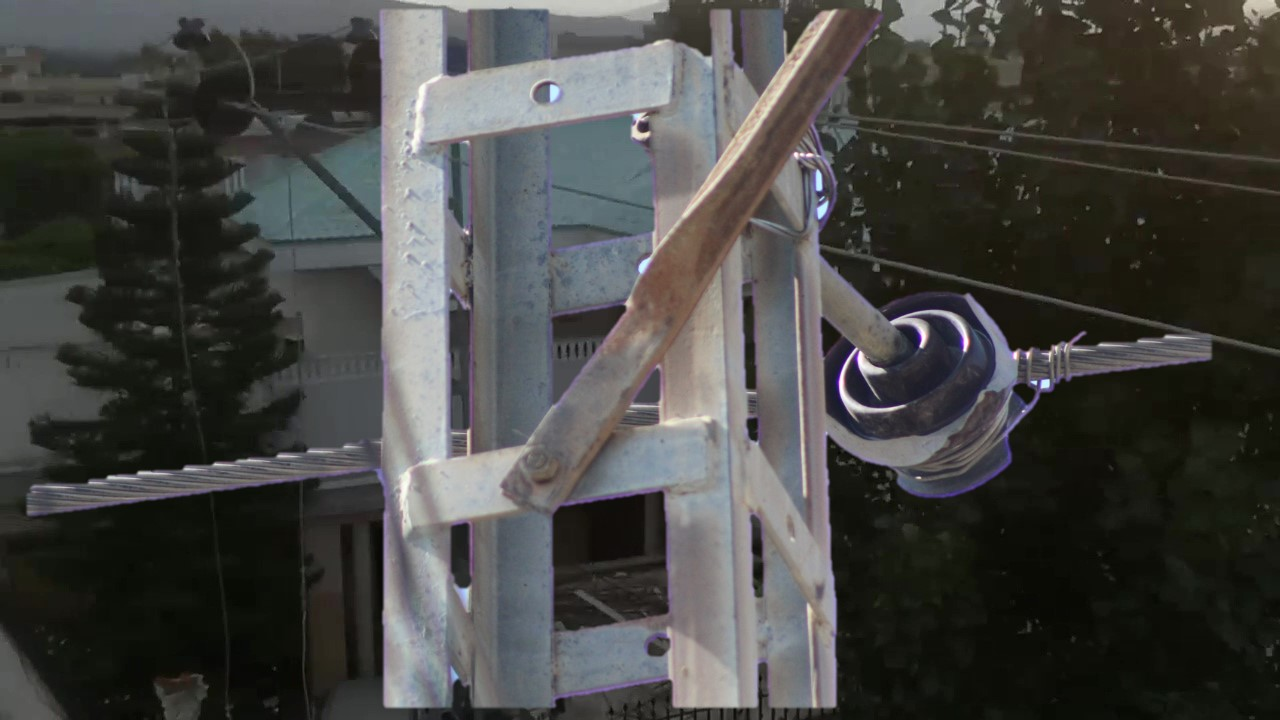defect_pin: (825, 269, 1037, 517)
